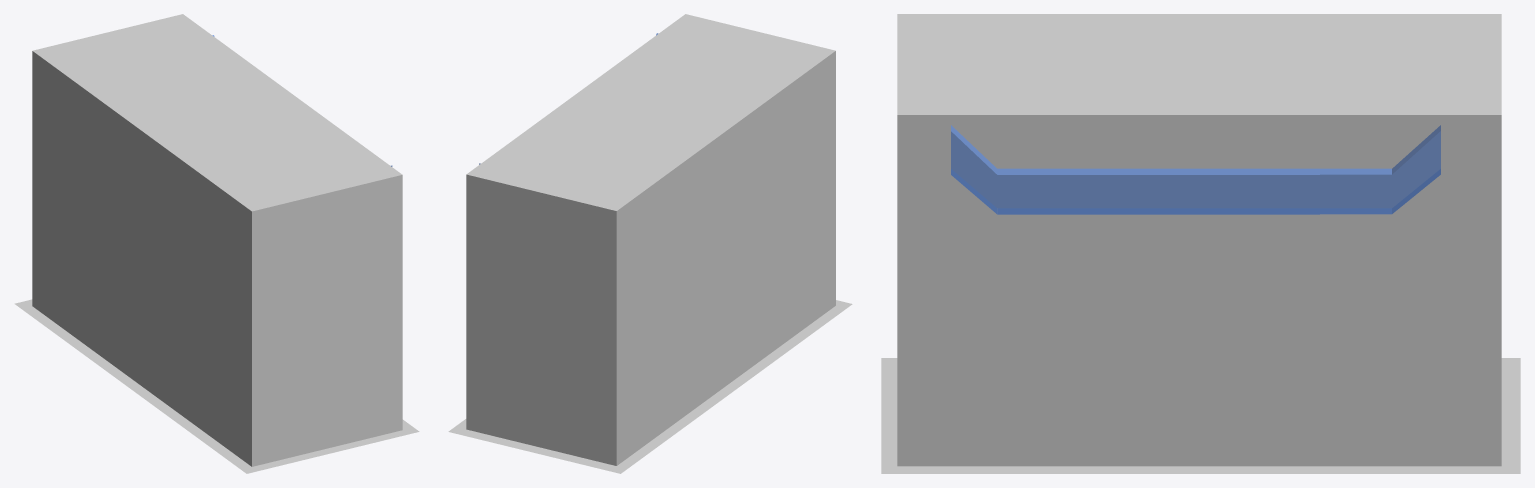
File: building5.dae
The picture shows the model from 3 angles, left to right: view 1: azimuth 30°, elevation 25°; view 2: azimuth 150°, elevation 25°; view 3: azimuth 270°, elevation 25°; orthographic projection. The views are drawn at different scales.
Visible parts, largest first — view 1: SketchUp (×2); view 2: SketchUp (×2); view 3: SketchUp (×3).
Part boxes in pixels (left/top/right/bottom): SketchUp (×2): left=14, top=14, right=419, bottom=473; SketchUp (×2): left=448, top=14, right=852, bottom=473; SketchUp (×3): left=881, top=14, right=1520, bottom=473.
Size of the model in its own units: 118 by 275 by 167.
